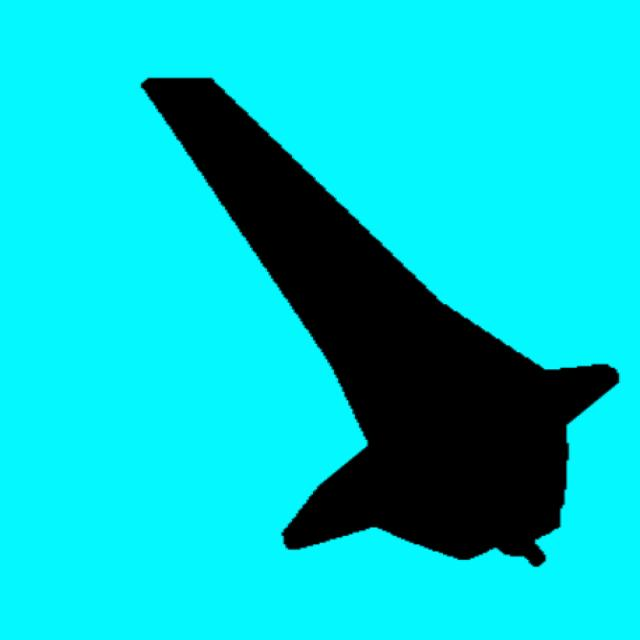BlackBuoy: (142, 79, 617, 565)
